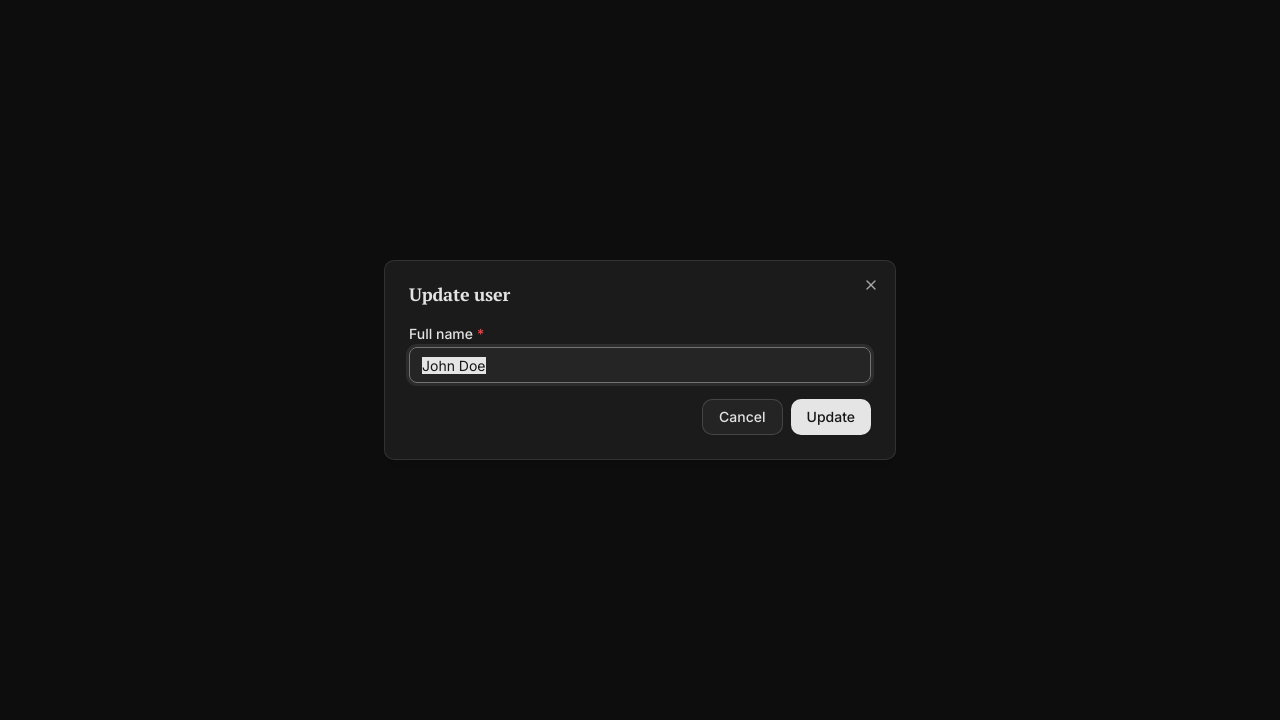
Test case: UpdateUserModal component › should show error if any input is empty
Clear the field with test id "fullName" at (640, 365), box [409,347,871,383]
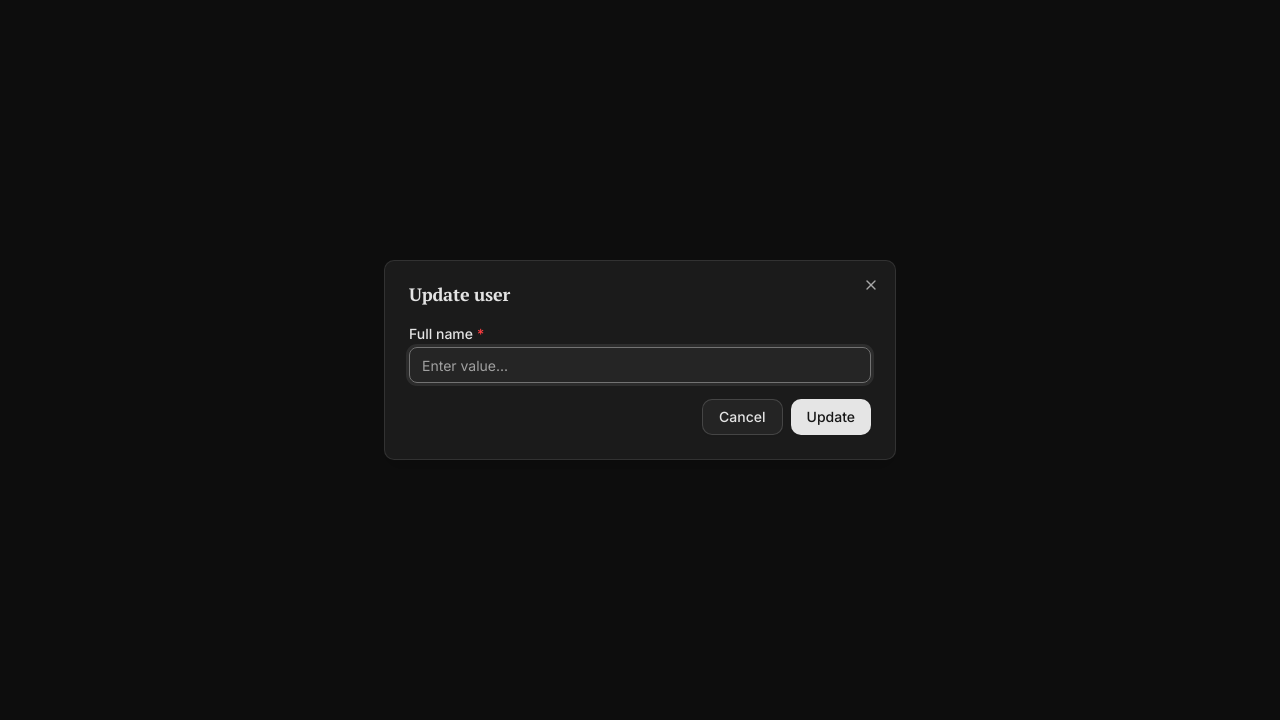
Click the button "Update".
click(831, 417)  # box [790,399,871,435]
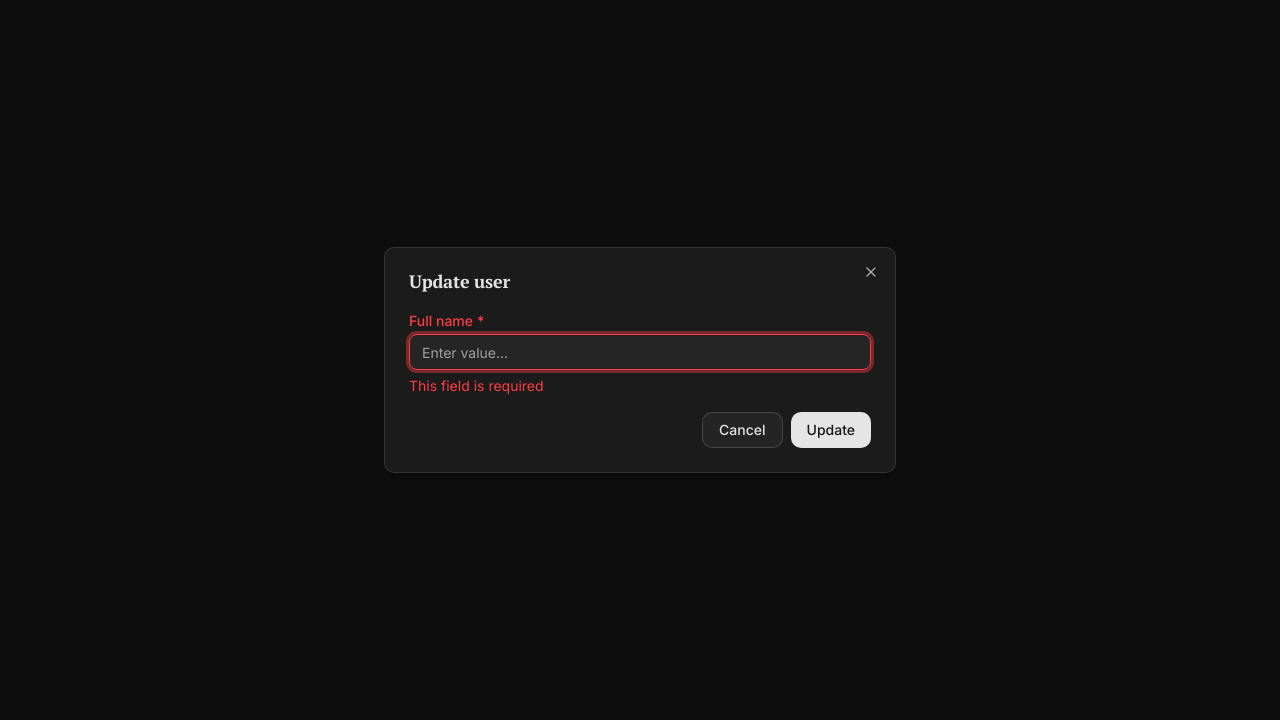
expect the text "This field is required" is shown once: met, box [409,377,544,394]
